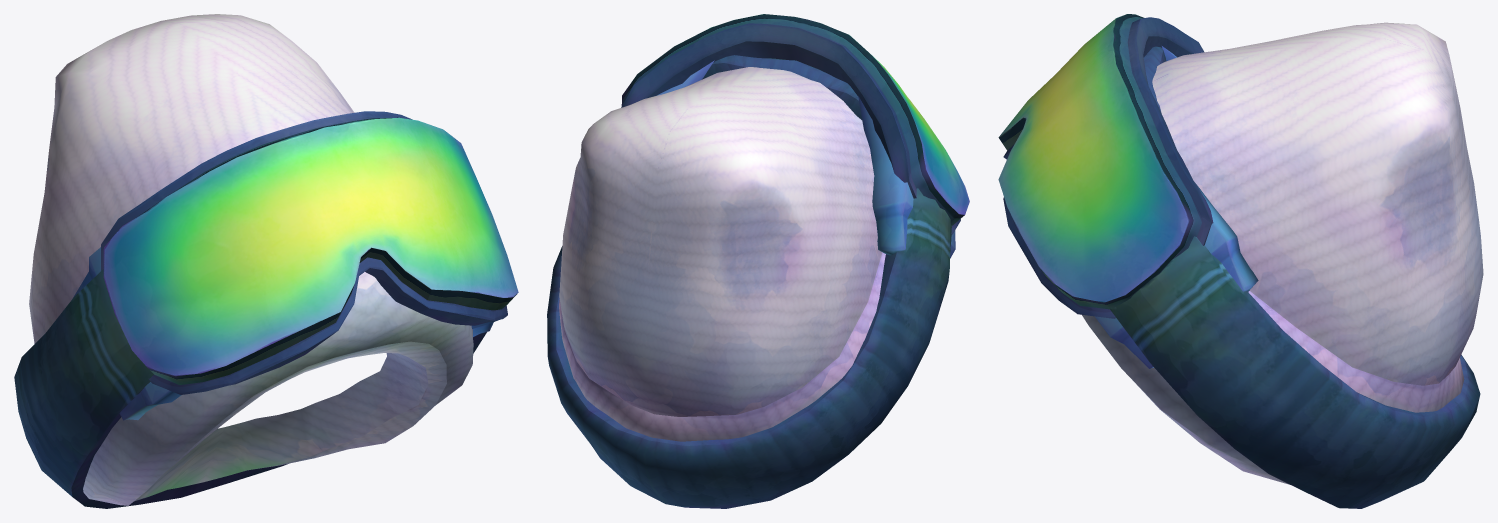
The picture shows the model from 3 angles, left to right: view 1: azimuth 30°, elevation 25°; view 2: azimuth 150°, elevation 25°; view 3: azimuth 270°, elevation 25°; orthographic projection. The views are drawn at different scales.
Parts seen in each view (by area): view 1: Wolf3D_Headwear; view 2: Wolf3D_Headwear; view 3: Wolf3D_Headwear.
Boxes of the visible parts, x1=… form: Wolf3D_Headwear: x1=14, y1=14, x2=518, y2=508; Wolf3D_Headwear: x1=547, y1=14, x2=969, y2=508; Wolf3D_Headwear: x1=998, y1=14, x2=1483, y2=508.
Bounding box in the file's own units: 0.22 × 0.2423 × 0.2367.
1 material, 1 textured.
